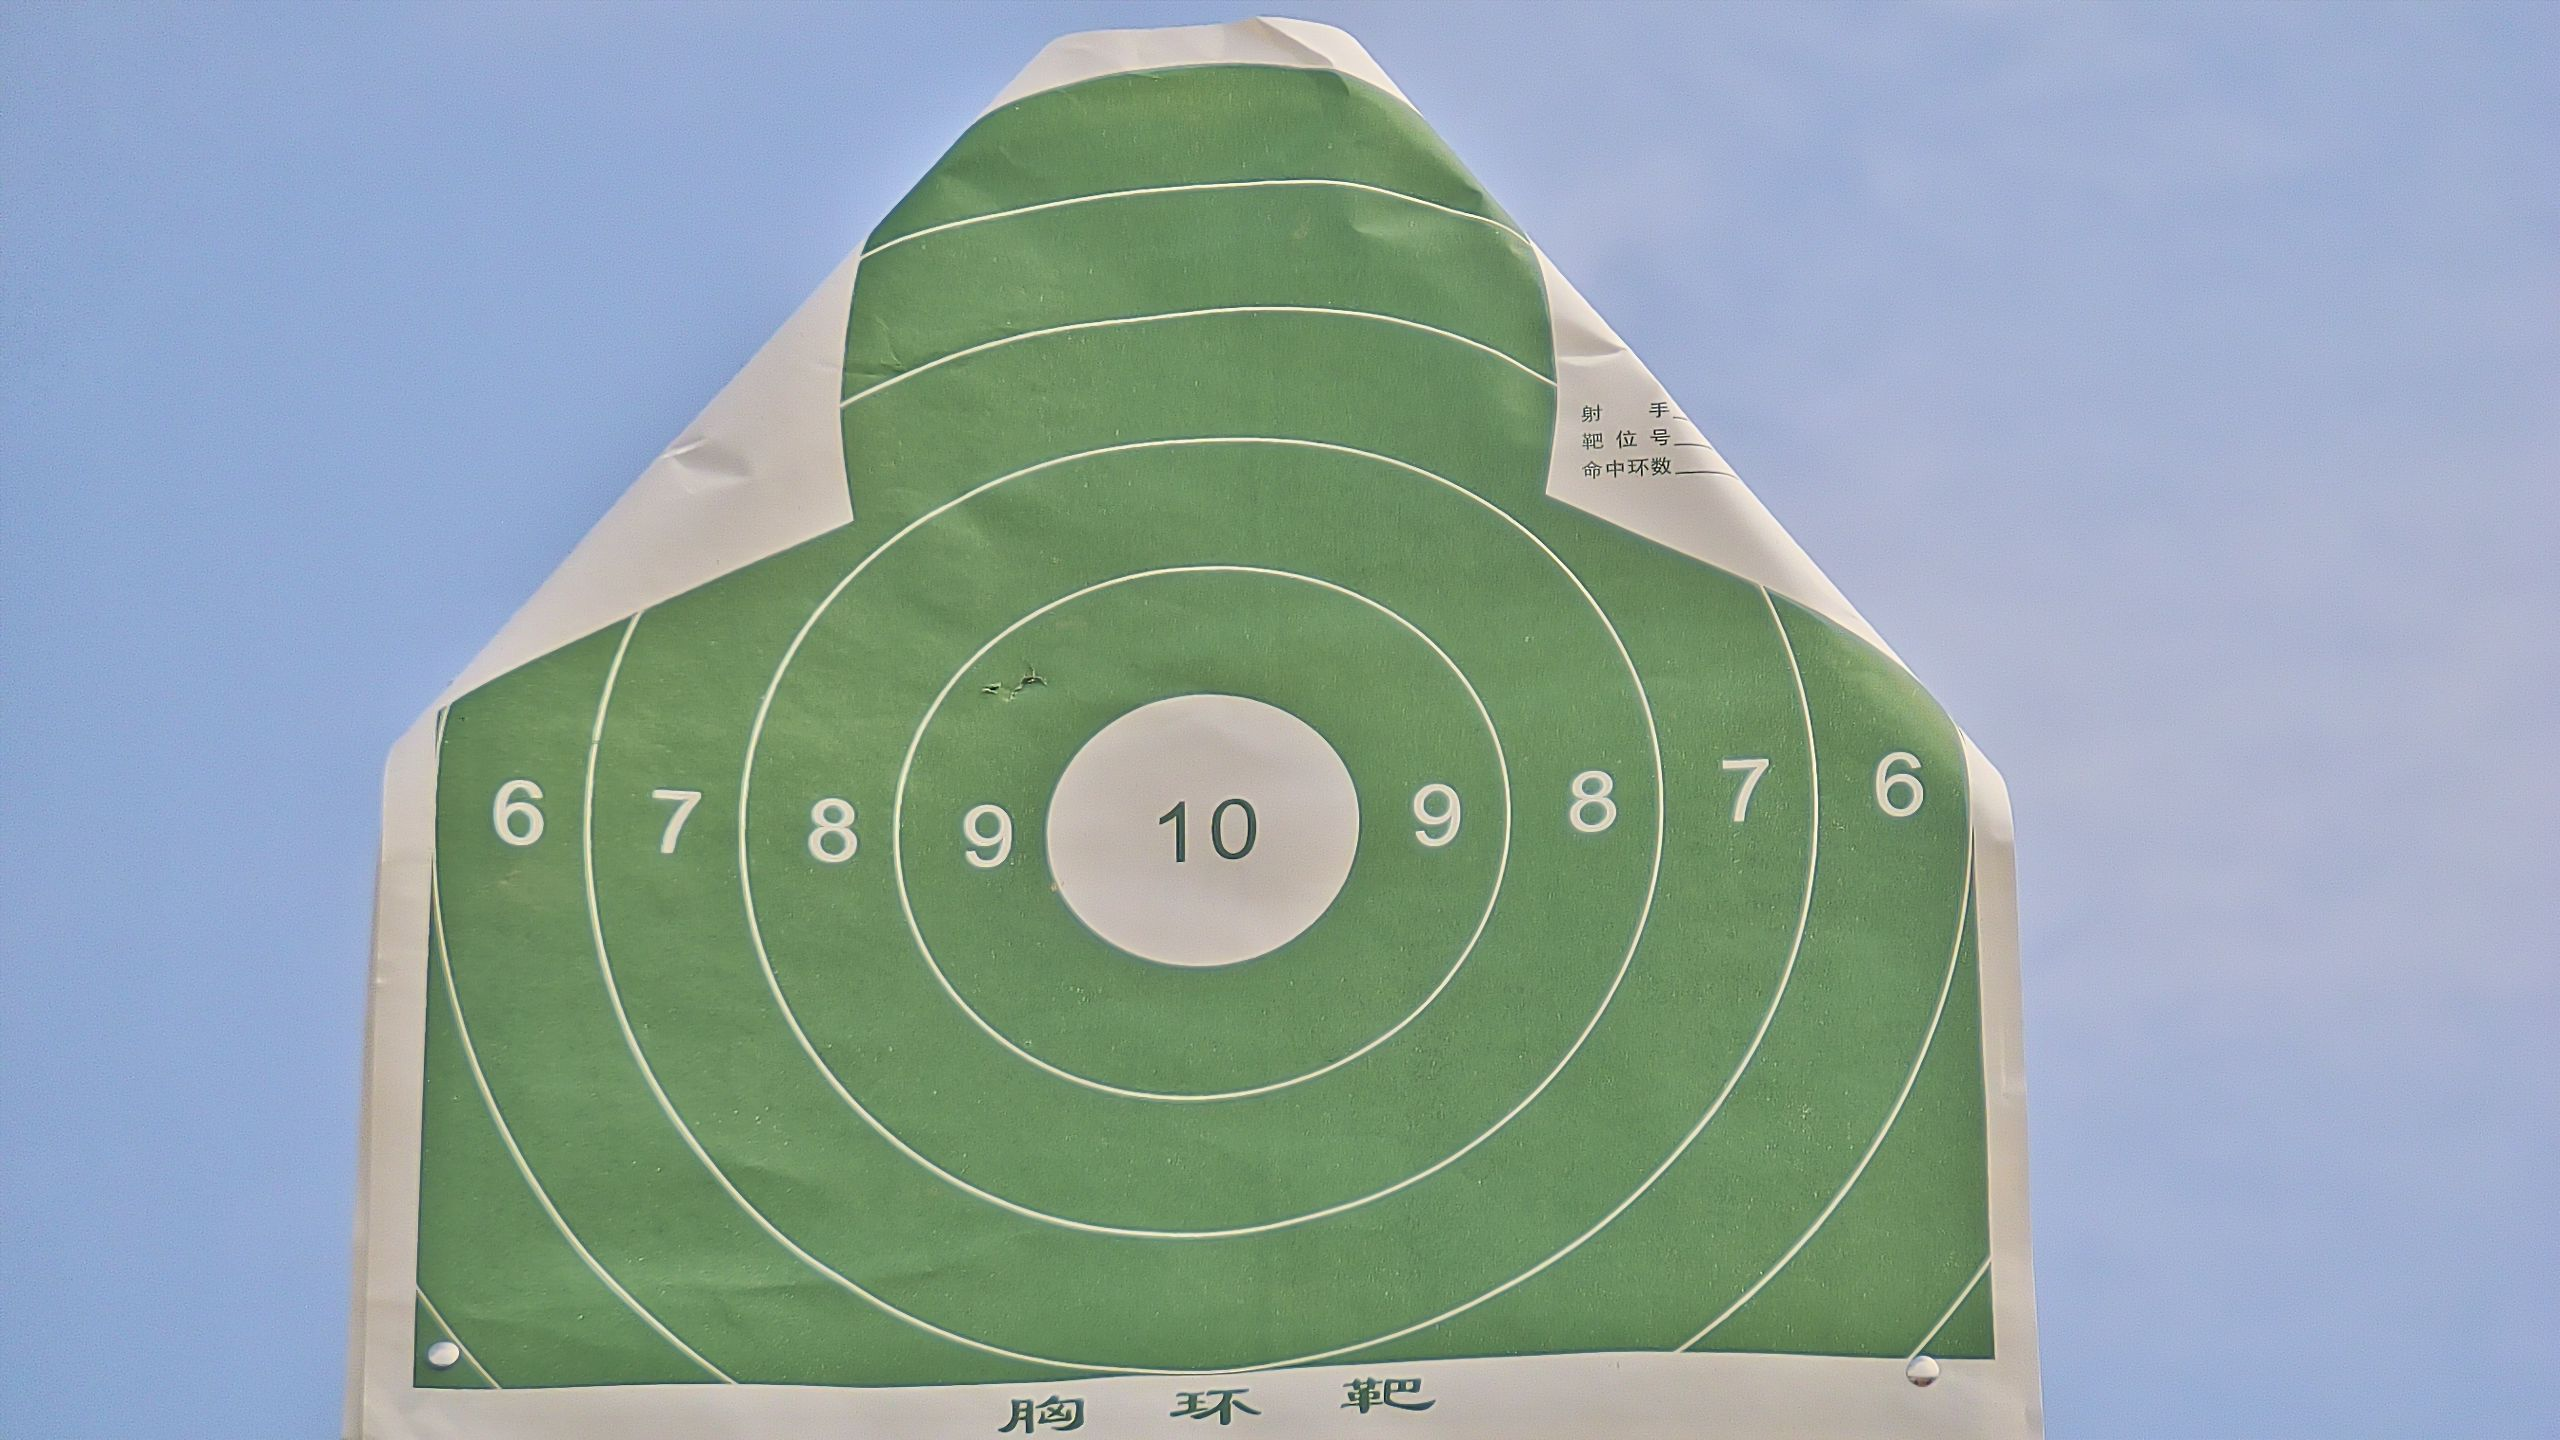target: (415, 63, 1983, 1393)
ten: (1043, 689, 1364, 967)
